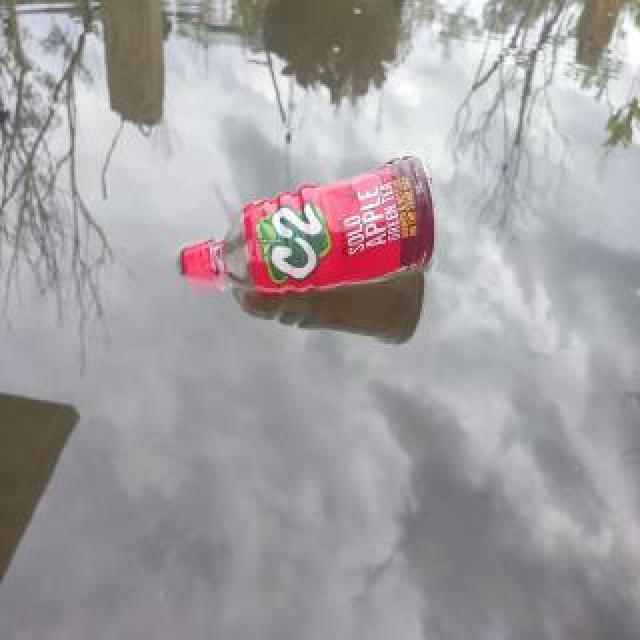bottle: (174, 147, 442, 301)
